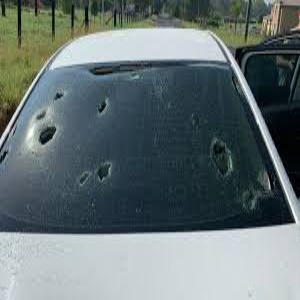rear_windshield_glass: (19, 60, 258, 222)
